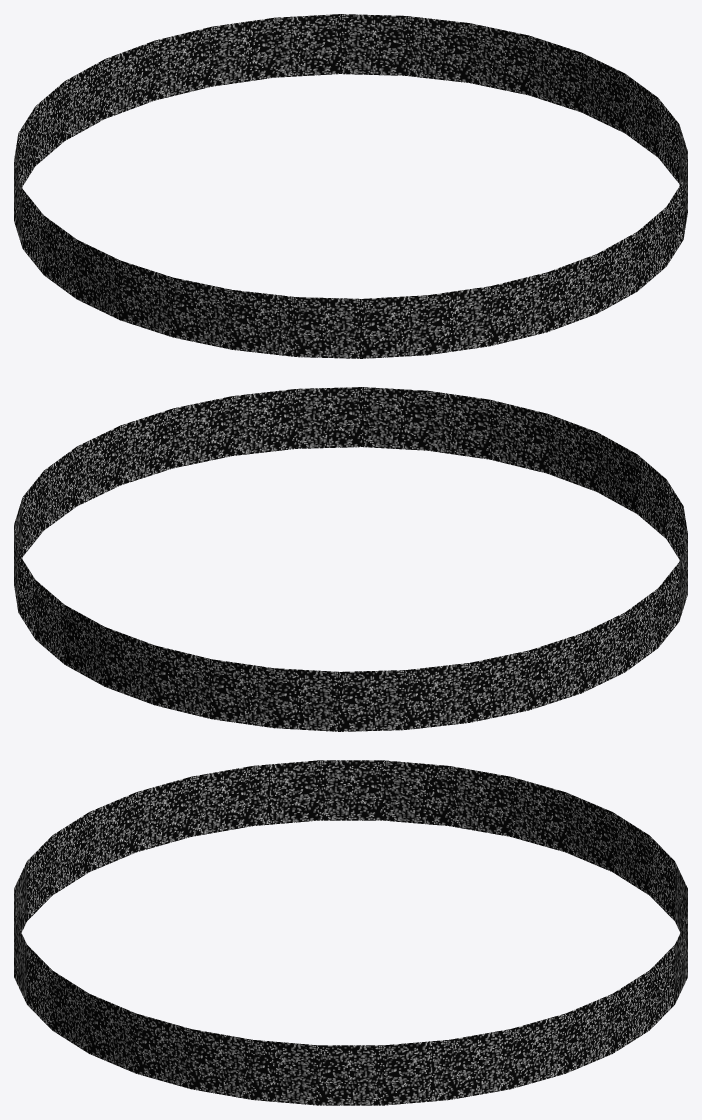
Rendered from star-ring32.obj.
3 renders of one model, top to bottom at view 1: azimuth 30°, elevation 25°; view 2: azimuth 150°, elevation 25°; view 3: azimuth 270°, elevation 25°, orthographic.
Visible parts, largest first — view 1: star-ring_Plane; view 2: star-ring_Plane; view 3: star-ring_Plane.
Boxes of the visible parts, bbox=[...] form: star-ring_Plane: bbox=[14, 14, 687, 358]; star-ring_Plane: bbox=[14, 387, 687, 731]; star-ring_Plane: bbox=[14, 760, 687, 1105].
Size of the model in its own units: 7.97 by 0.787 by 7.97.
